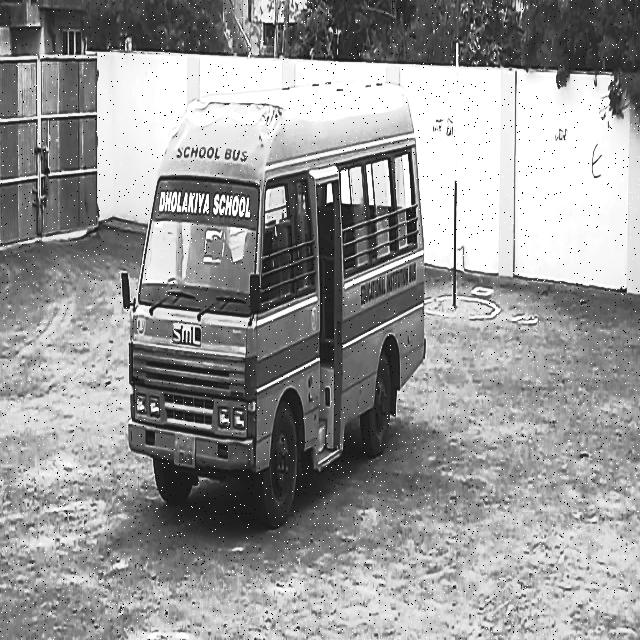Bus: (119, 76, 440, 535)
